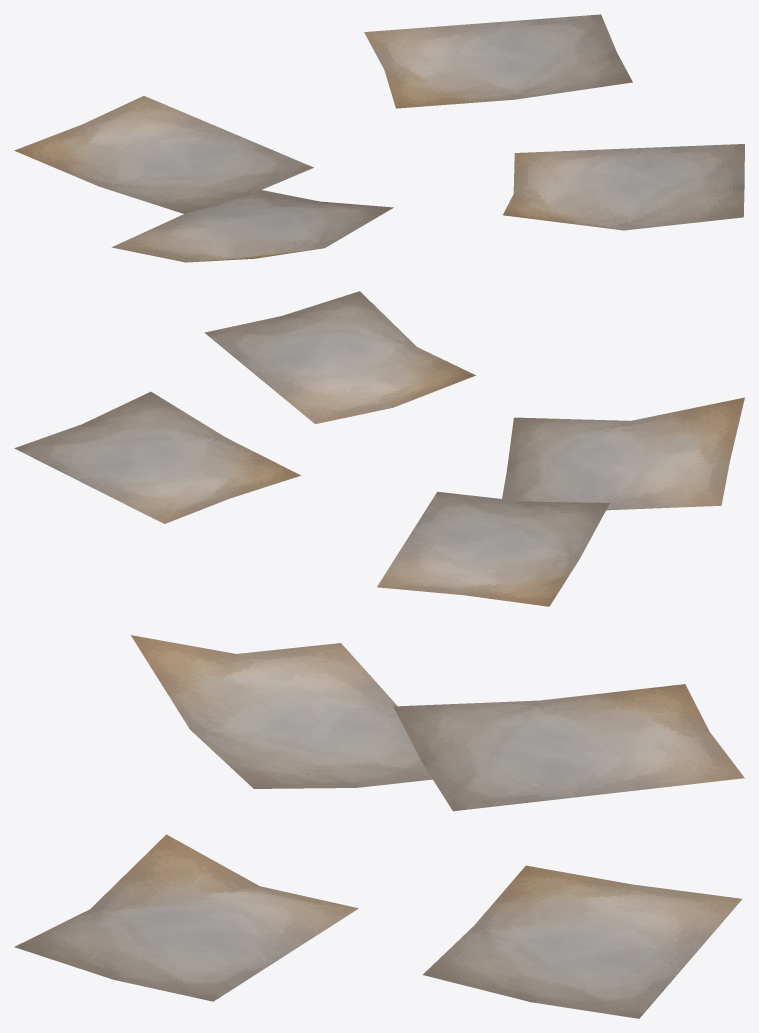
File: a_paper04.glb
3 views of the same model, one above another, from view 1: azimuth 30°, elevation 25°; view 2: azimuth 150°, elevation 25°; view 3: azimuth 270°, elevation 25° (orthographic). The views are drawn at different scales.
Visible parts, largest first — view 1: a_paper04; view 2: a_paper04; view 3: a_paper04.
Boxes of the visible parts, <box> form: a_paper04: <box>14,14,744,262</box>; a_paper04: <box>14,291,744,606</box>; a_paper04: <box>14,635,744,1018</box>.
Size of the model in its own units: 1.23 by 0.1036 by 1.02.
1 material, 1 textured.
